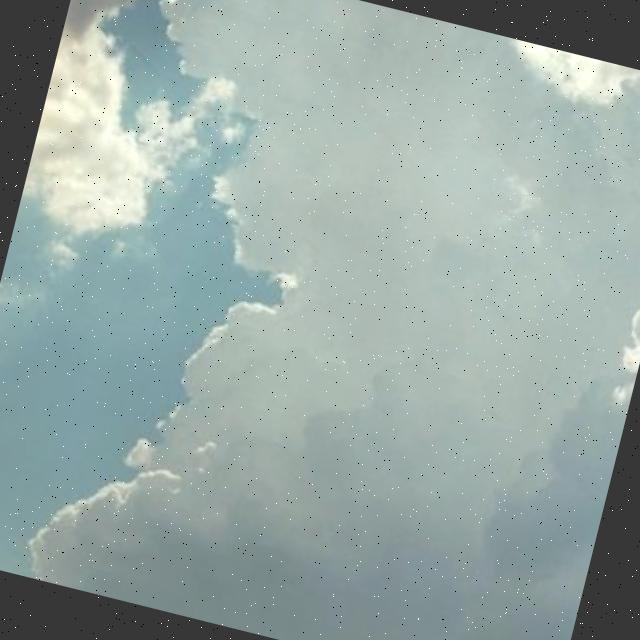Cb: (1, 1, 640, 638)
